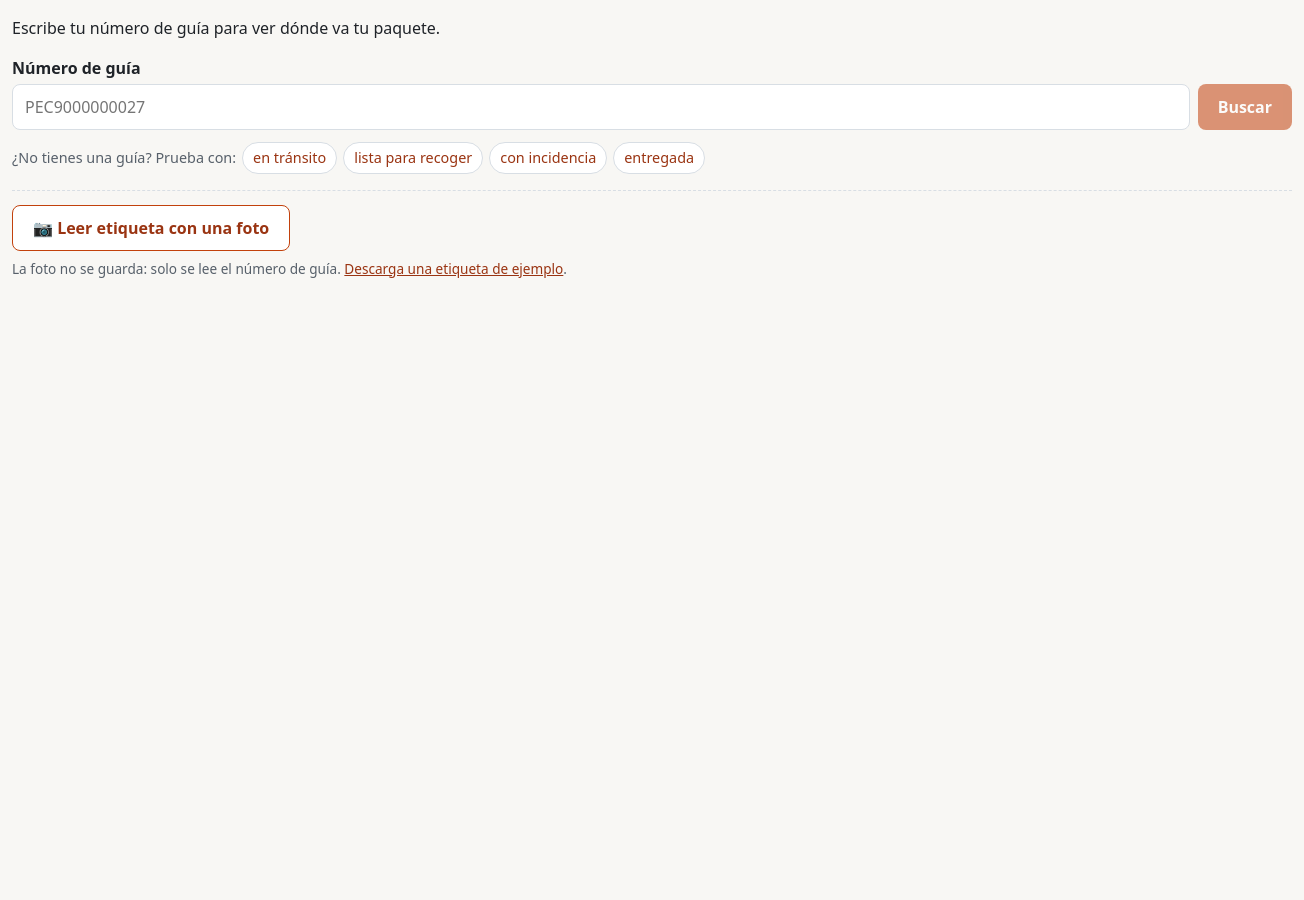
it: Rastreo › un clic en una guía de ejemplo la escribe y la busca
Click the button "en tránsito".
click(290, 158)  # box [242, 142, 337, 174]
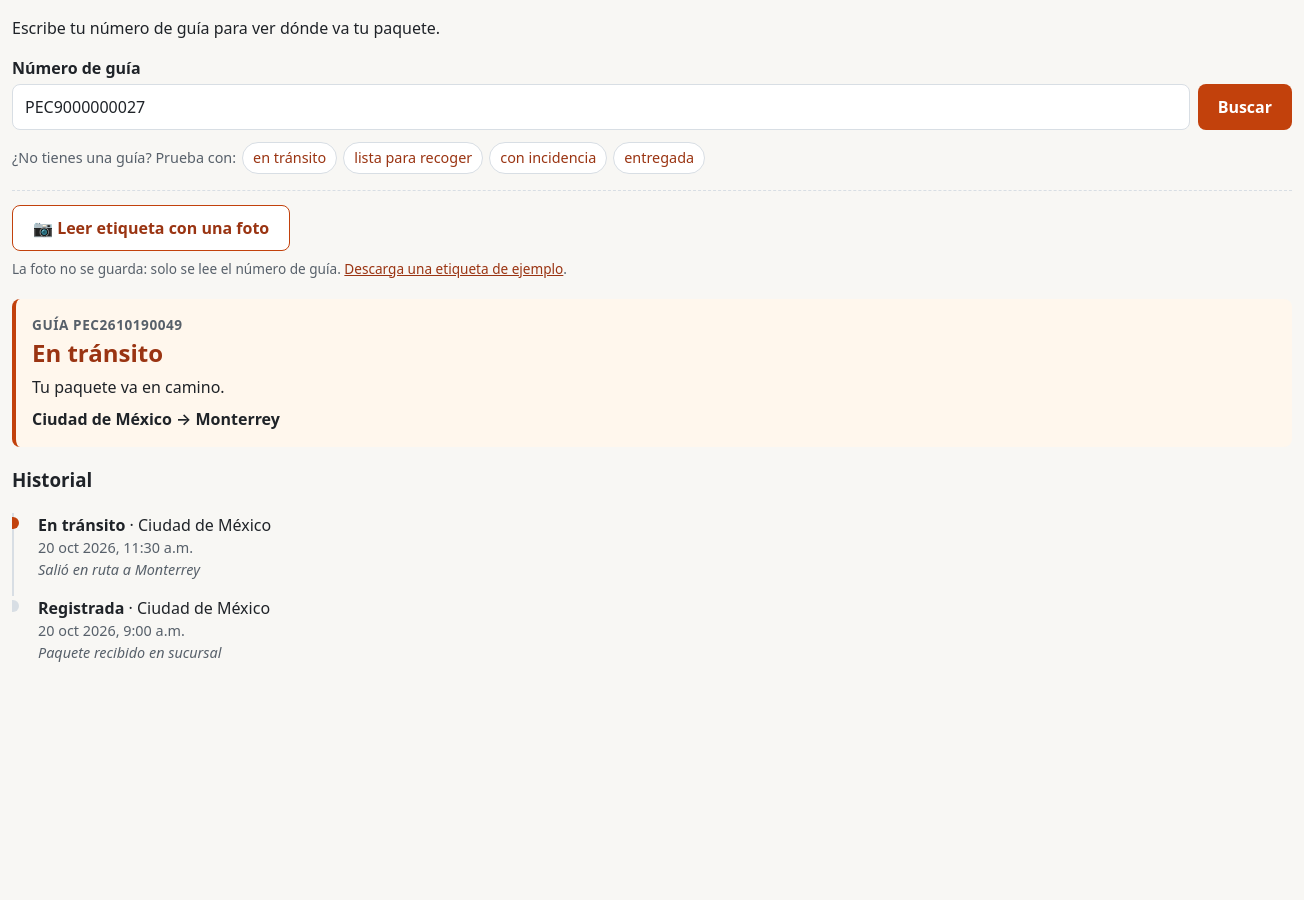
Expected: the heading "En tránsito" is shown, [32, 336, 163, 369]
Expected: the field labelled "Número de guía" holds "PEC9000000027", [12, 84, 1190, 130]
